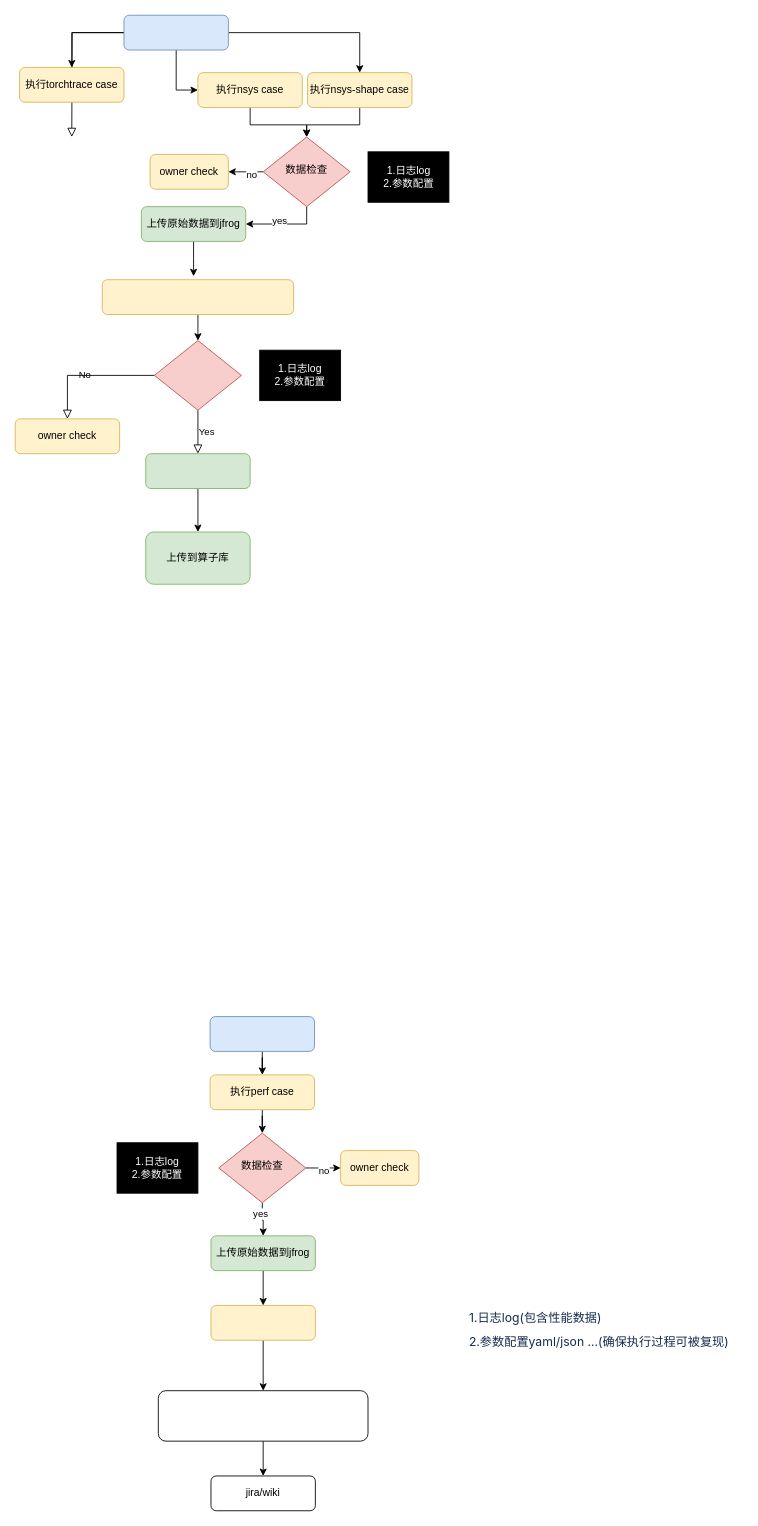
Image size: 758x1526. Some labels were removed from this diagram. Here are the shapes that lost their labels. From the top down, the centre of each, then its label:
the point at 175,32: torchtrace&&nsys-shape op 交付
the point at 197,297: 融合 torchtrace 和 nsys-shape 算子信息生成算子列表
the point at 197,375: 算子列表检测
the point at 197,471: 上传算子列表至jfrog
the point at 262,1033: benchmark 交付
the point at 262,1322: benchmark解析
the point at 262,1415: 输出算力/性能/存储理论分析数据:flops/mfu/memory
